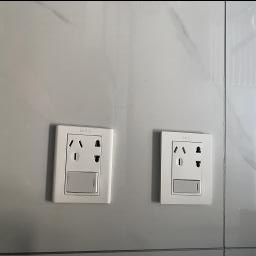outlet: (50, 119, 112, 206), (156, 128, 212, 208)
